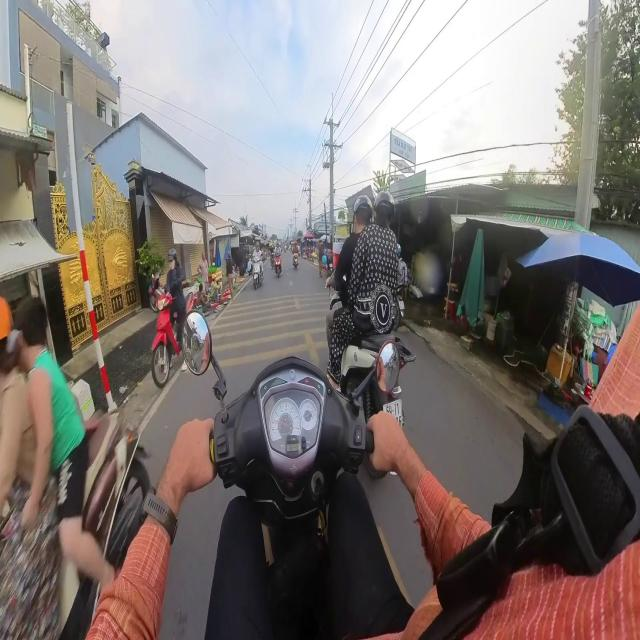motorcycle: (183, 312, 402, 638), (83, 414, 150, 568), (152, 293, 180, 388), (253, 262, 263, 289), (275, 256, 281, 277), (293, 253, 299, 270)
